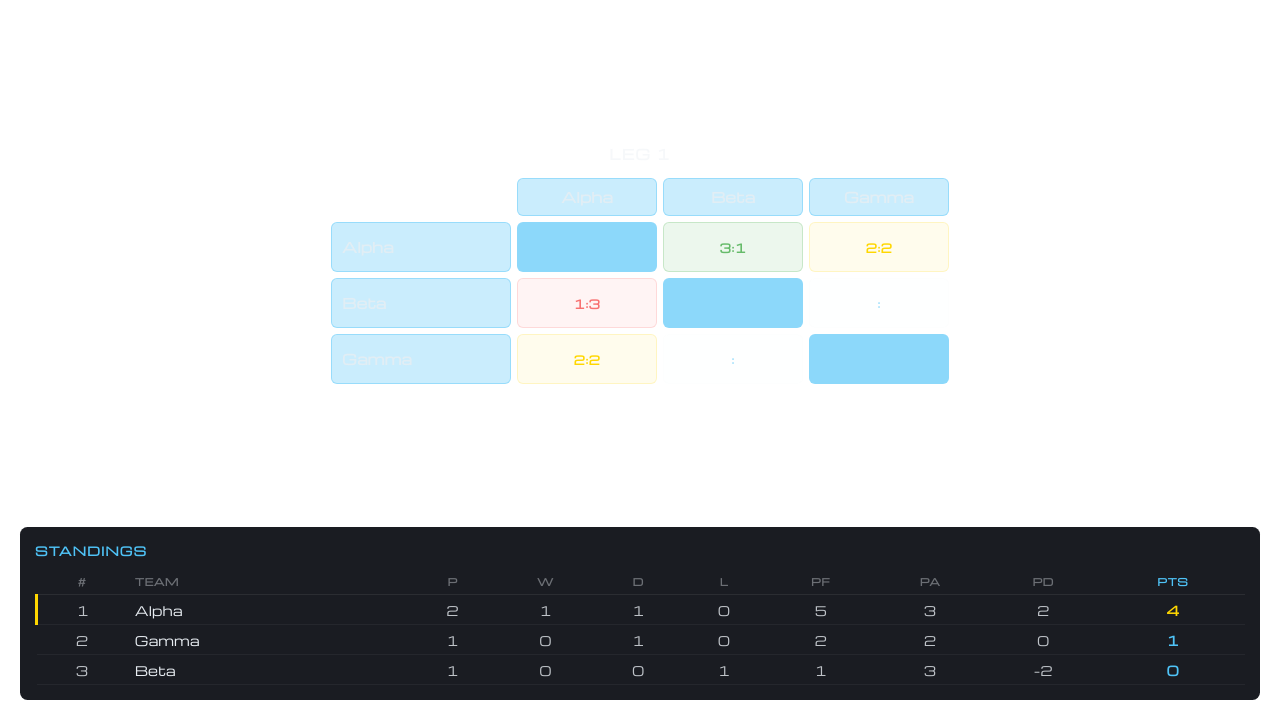
Test case: RoundRobinTable › opens the ChangeScore modal when a played cell is clicked
What coordinates should you click on to do the following:
click the text "3:1"
I would click on:
 (733, 247)
Its box is [720,238,746,256].
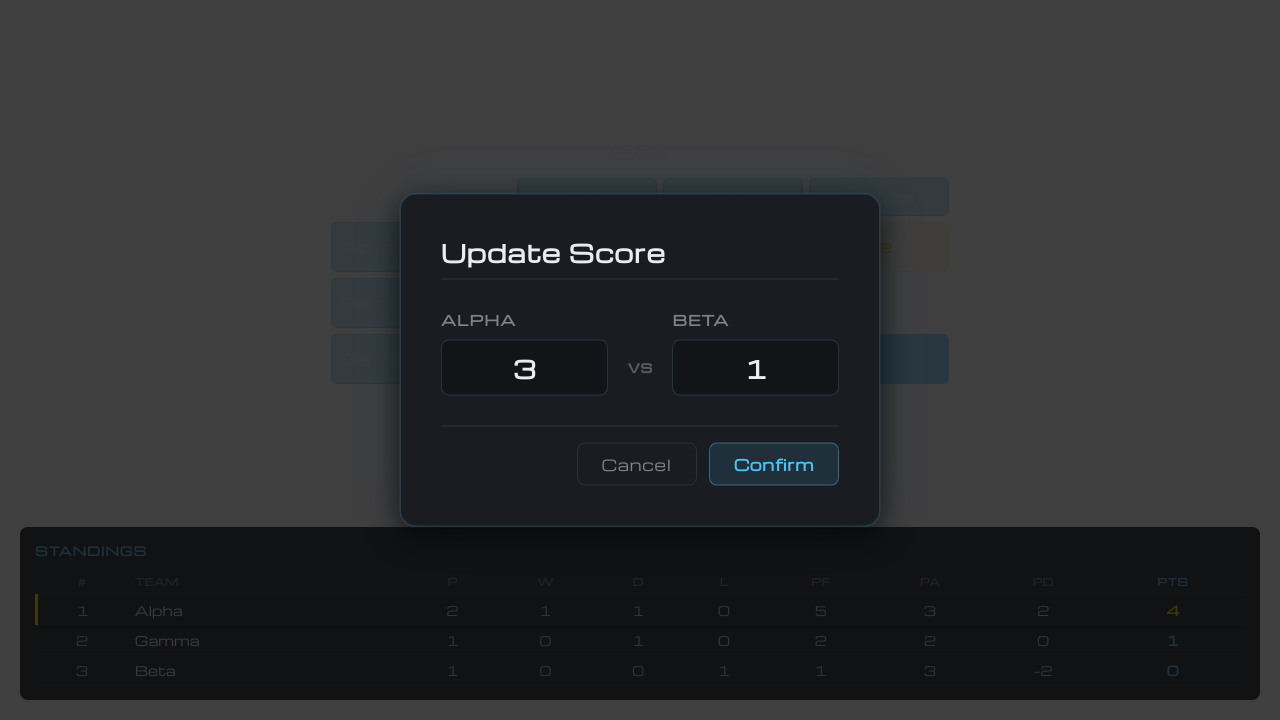
Now the heading "Update Score" is shown, box [441,234,839,280]
